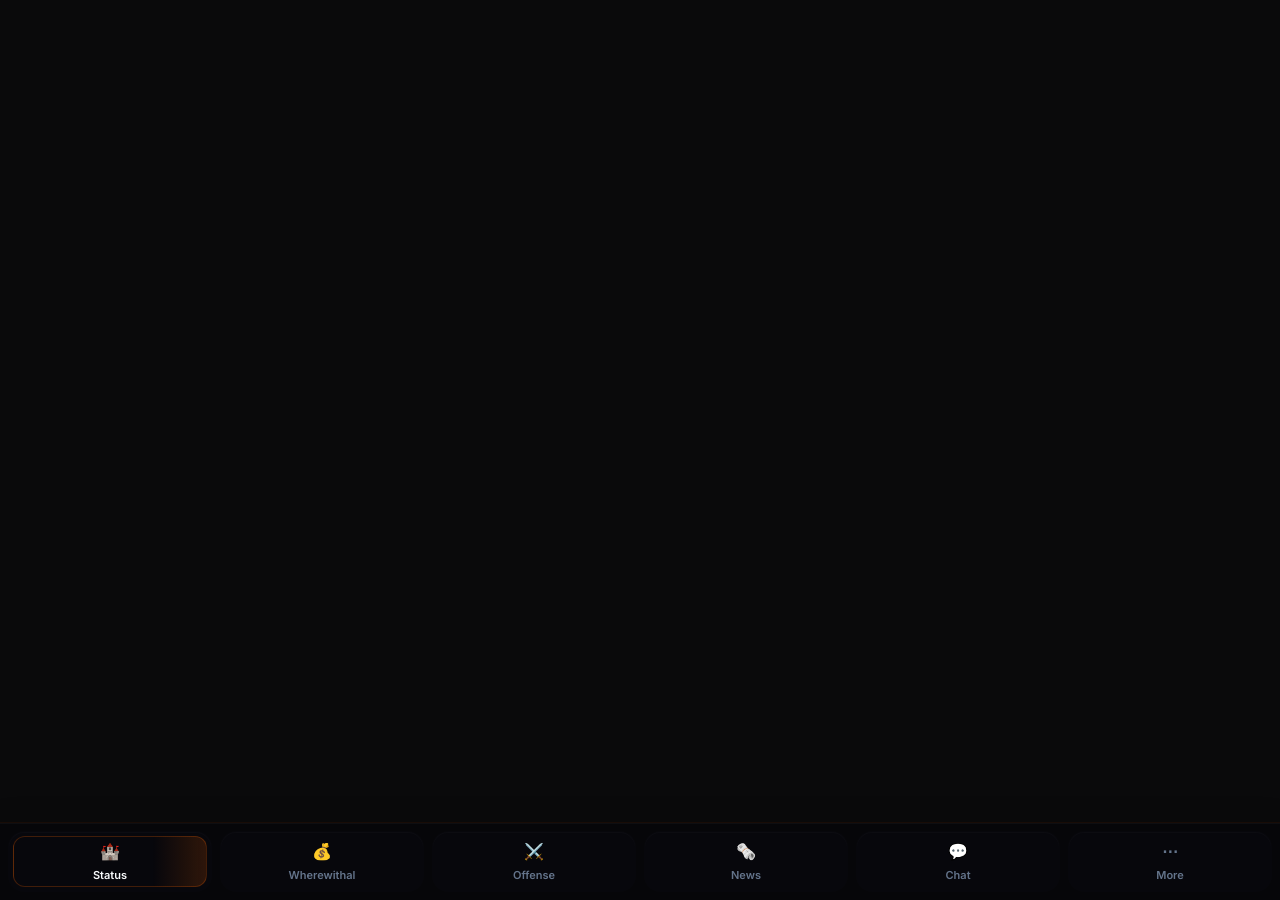
it: BottomNav › more drawer › should open drawer when more button is clicked
What coordinates should you click on to do the following:
click the button "⋯ More"
I would click on:
 (1170, 862)
Its box is [1068, 831, 1272, 892].
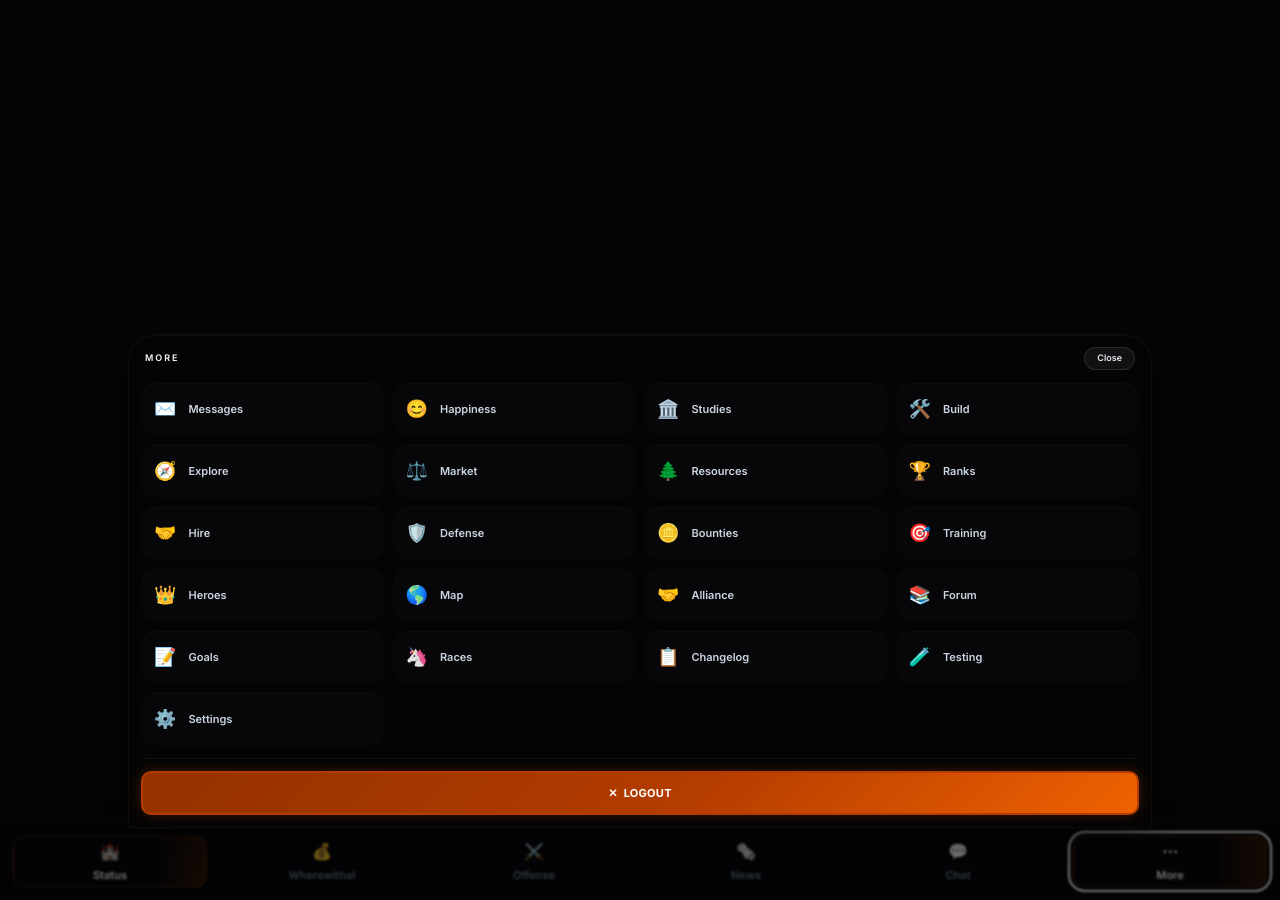
Expected: the button "⋯ More" is expanded, [1068, 831, 1272, 892]
Expected: the dialog is shown, [128, 334, 1152, 828]
